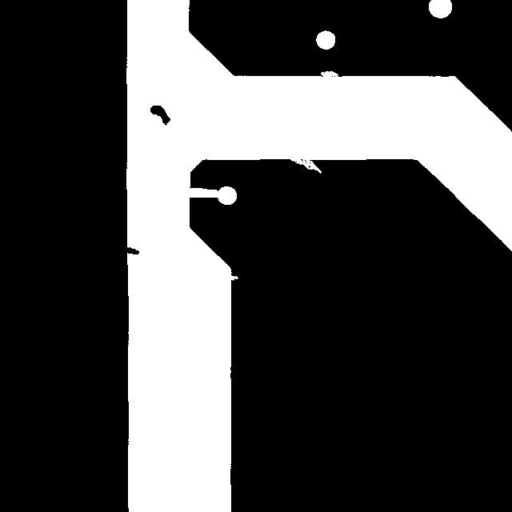copper: (142, 98, 178, 133)
mousebite: (282, 148, 329, 181), (313, 63, 346, 85), (222, 267, 246, 288)
open: (178, 180, 228, 205)
spur: (117, 239, 146, 262)
